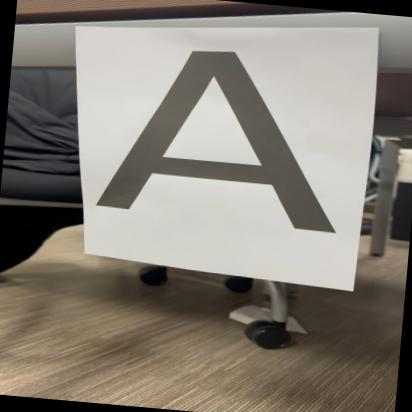seat: (92, 39, 366, 239)
